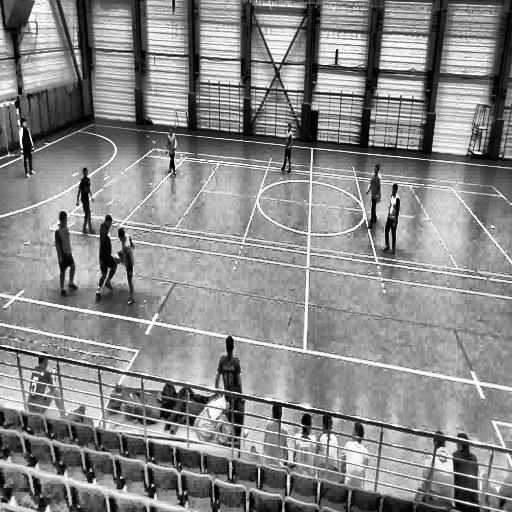ball: (116, 251, 122, 267)
player: (214, 334, 242, 414), (54, 211, 78, 298), (96, 213, 119, 300), (117, 225, 135, 305), (77, 167, 96, 234), (383, 183, 400, 255), (366, 164, 382, 231), (19, 117, 35, 177), (280, 120, 294, 174), (167, 128, 177, 174)
